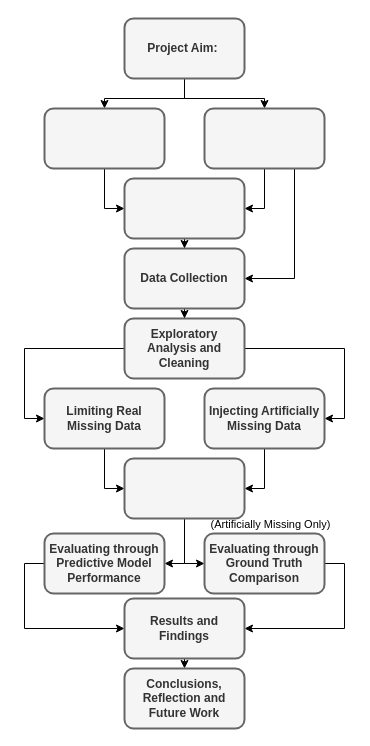
This 370x746 diagram has some shape labels left out. The centre of each missing label's shape, as x and y in pixels:
Imputing Missing Data: pixel 184 488
Literature Review: pixel 184 208
Research Objectives: pixel 264 138
Research Questions: pixel 104 138
